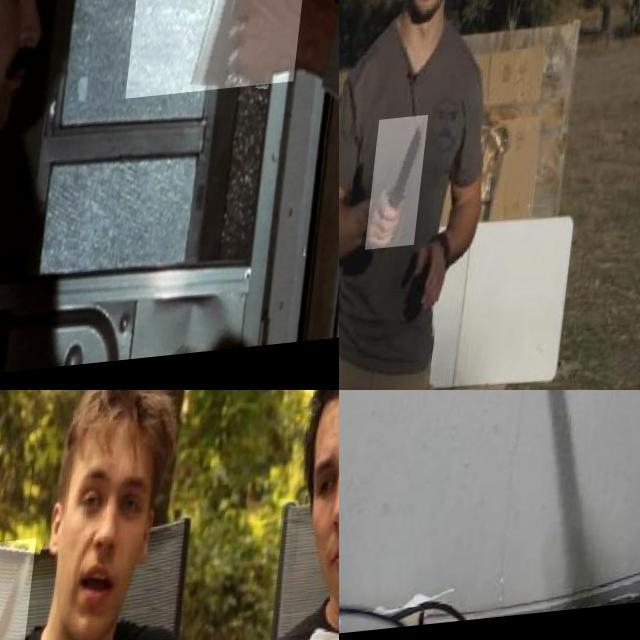-: (508, 390, 640, 544), (374, 122, 434, 256), (0, 540, 41, 640)
gun-knife-thesis - v11 Yolov5 augmented: (134, 0, 320, 111)
